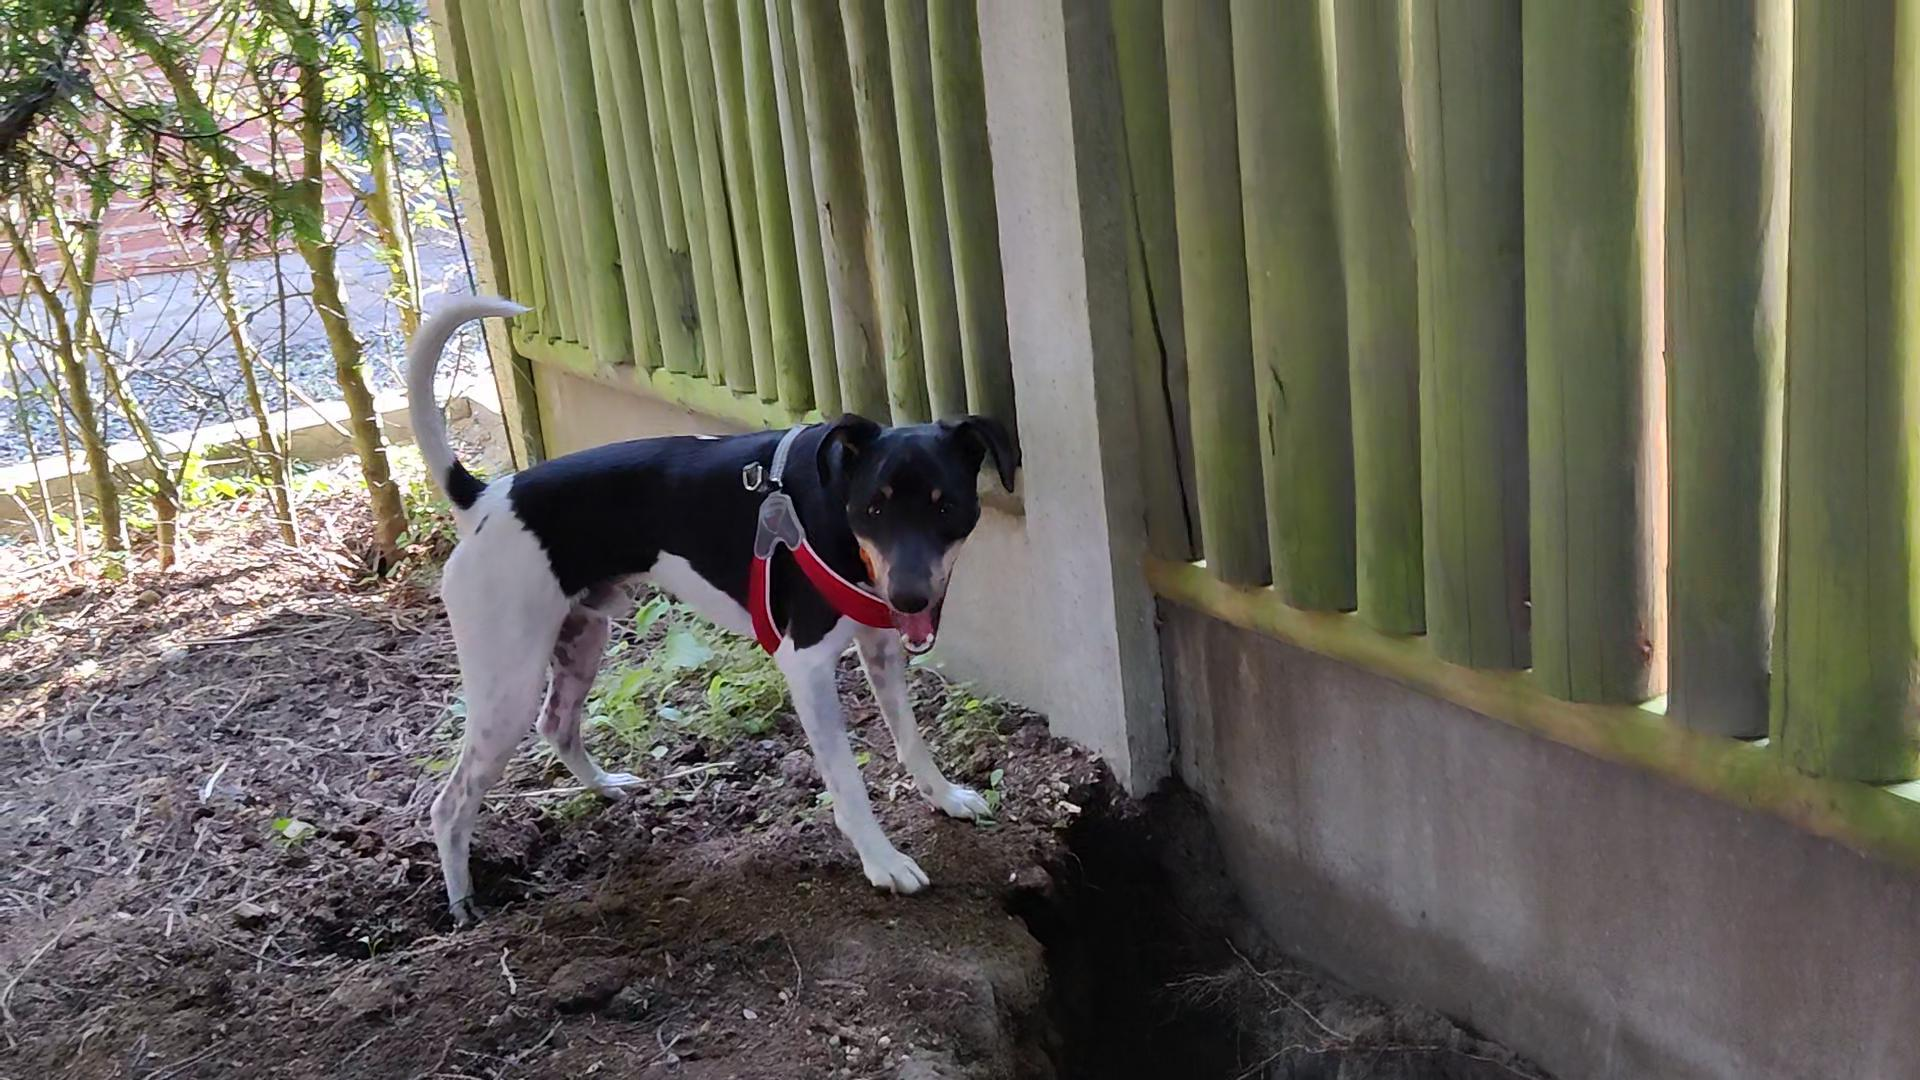Dog: (377, 281, 1033, 916)
